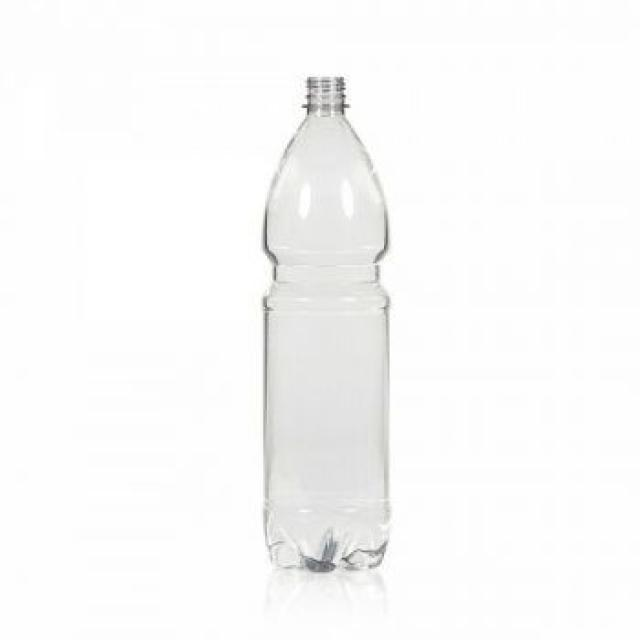bottom: (250, 504, 418, 584)
no_cap: (287, 74, 355, 117)
